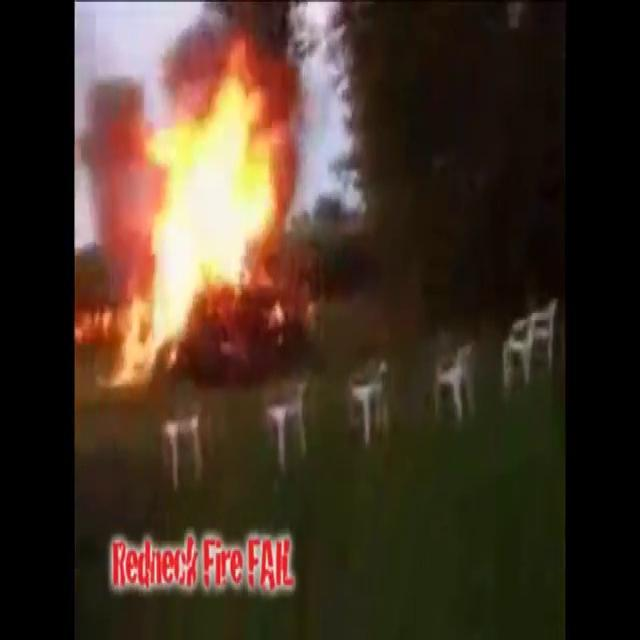Fire: (116, 45, 296, 364)
